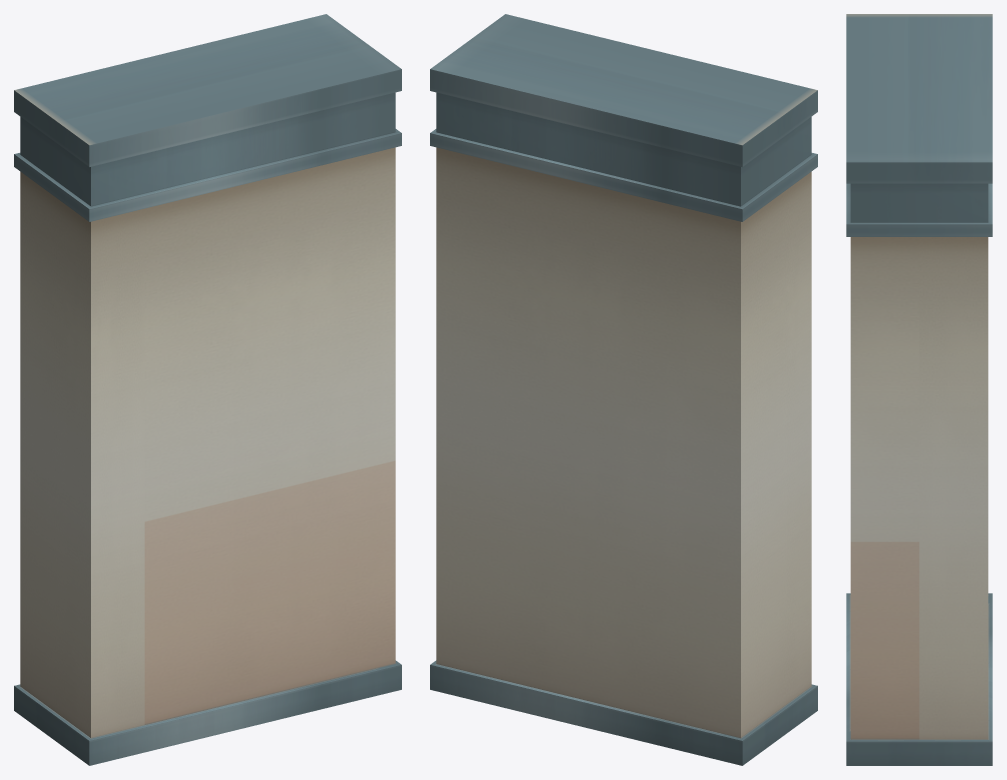
File: SHW_Pillar_01_18.fbx
The picture shows the model from 3 angles, left to right: view 1: azimuth 30°, elevation 25°; view 2: azimuth 150°, elevation 25°; view 3: azimuth 270°, elevation 25°; orthographic projection. The views are drawn at different scales.
Parts seen in each view (by area): view 1: shw_pillar_01_18; view 2: shw_pillar_01_18; view 3: shw_pillar_01_18.
Boxes of the visible parts, bbox=[...] form: shw_pillar_01_18: bbox=[14, 14, 401, 765]; shw_pillar_01_18: bbox=[430, 14, 817, 765]; shw_pillar_01_18: bbox=[846, 14, 992, 765].
Size of the model in its own units: 158 by 300 by 66.
